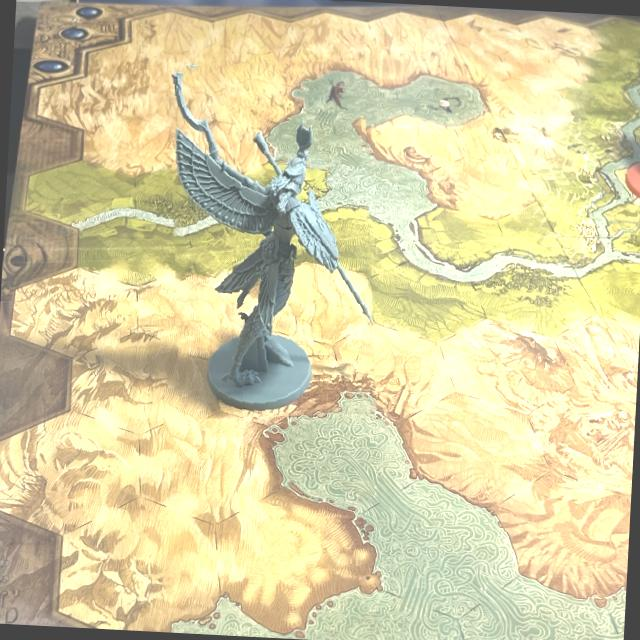isis: (157, 54, 387, 426)
